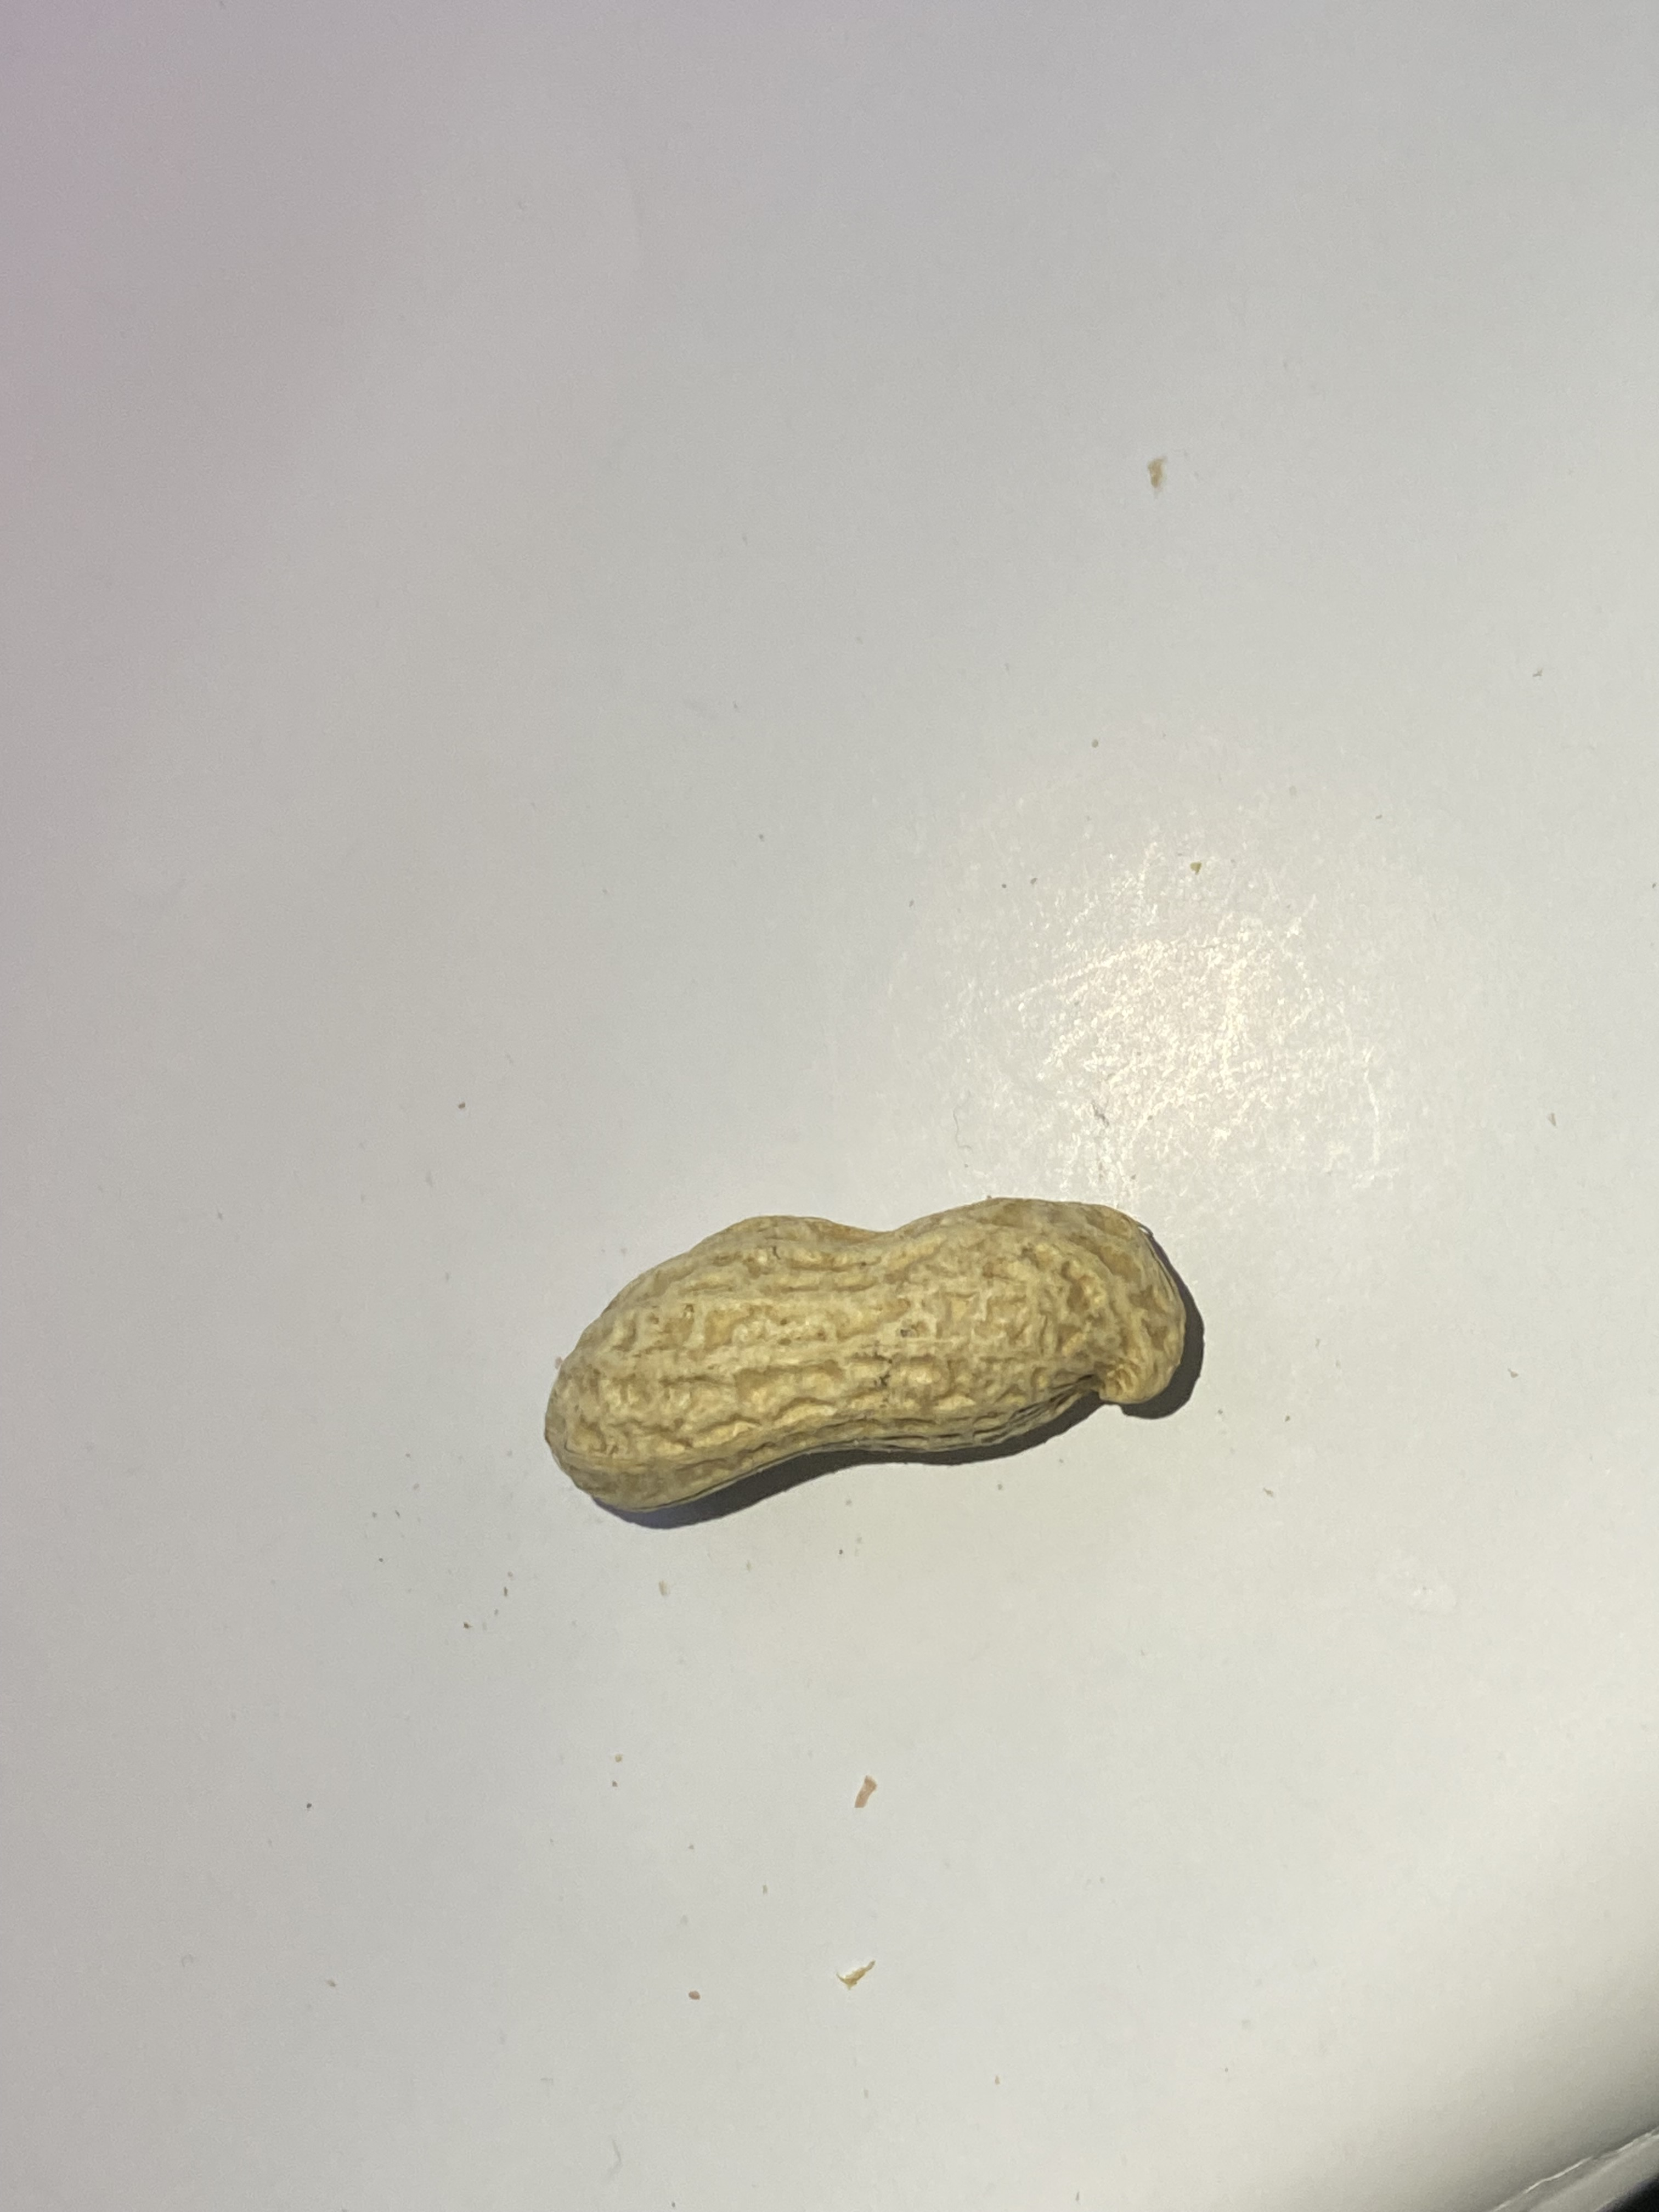kacang2: (526, 1167, 1263, 1527)
